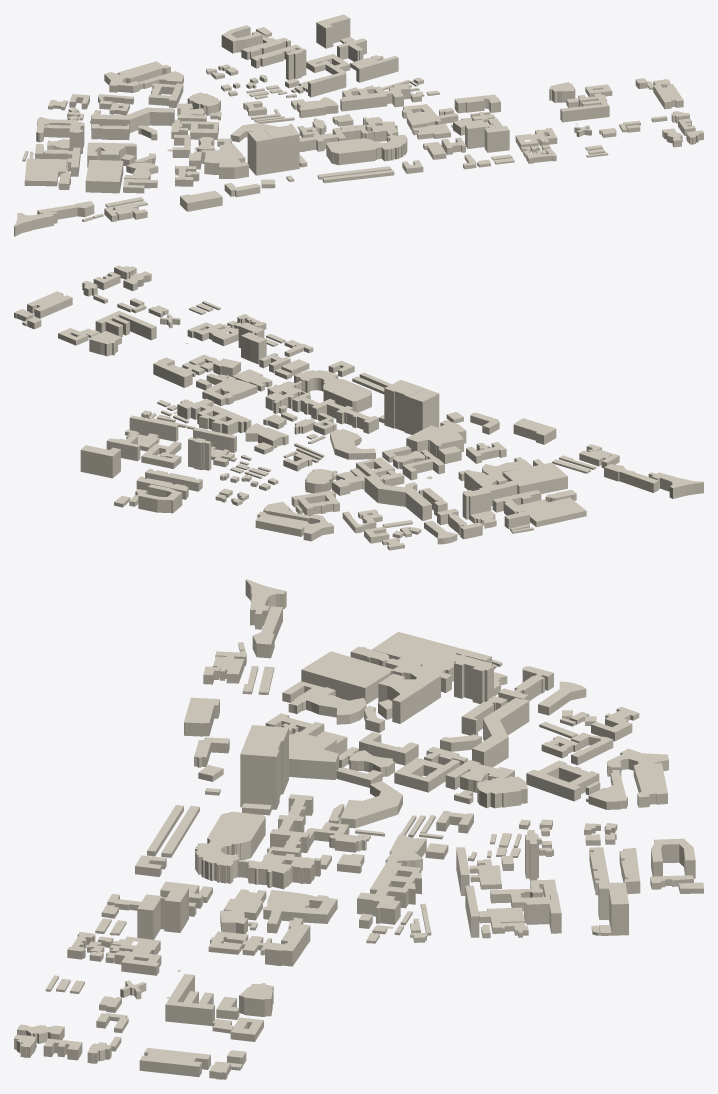
File: FinalModel.gltf
3 renders of one model, top to bottom at view 1: azimuth 30°, elevation 25°; view 2: azimuth 150°, elevation 25°; view 3: azimuth 270°, elevation 25°, orthographic. The views are drawn at different scales.
Parts seen in each view (by area): view 1: fin_Buildings_min_max; view 2: fin_Buildings_min_max; view 3: fin_Buildings_min_max.
Boxes of the visible parts, x1=… form: fin_Buildings_min_max: x1=14, y1=14, x2=703, y2=236; fin_Buildings_min_max: x1=14, y1=265, x2=703, y2=550; fin_Buildings_min_max: x1=14, y1=579, x2=703, y2=1079.
Size of the model in its own units: 1340 by 68.11 by 805.
